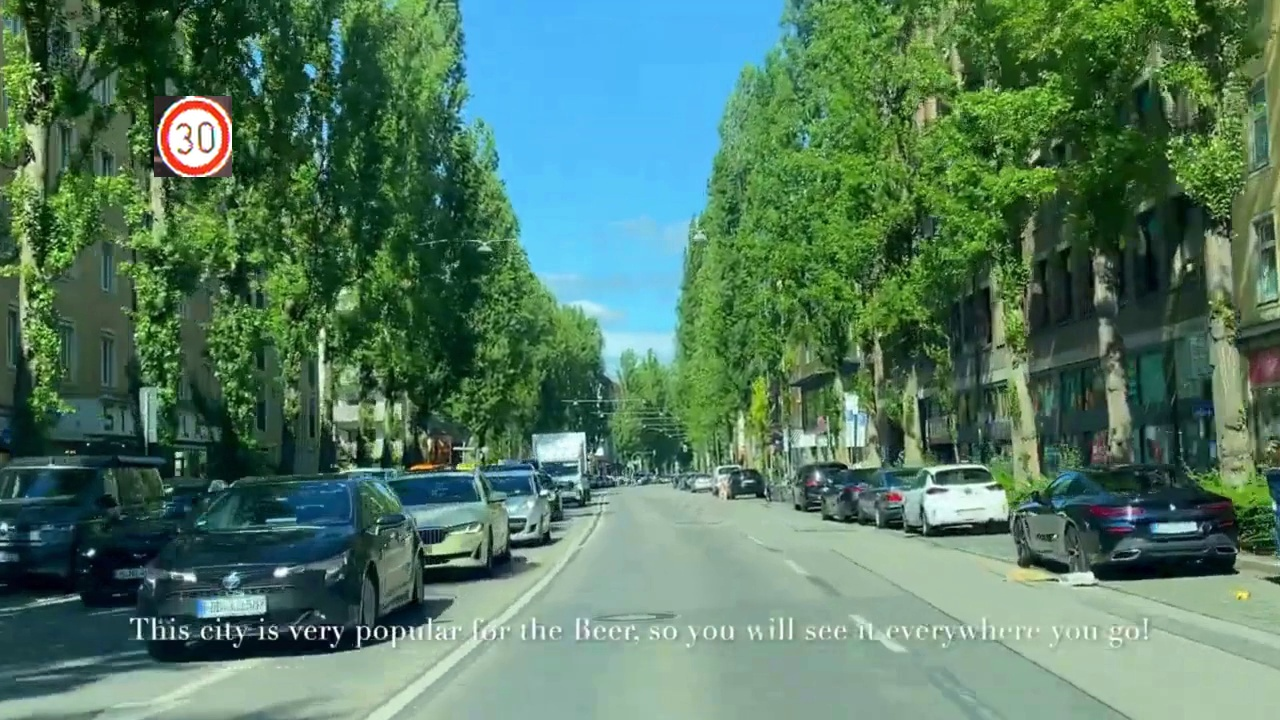Speed 30: (154, 96, 232, 177)
